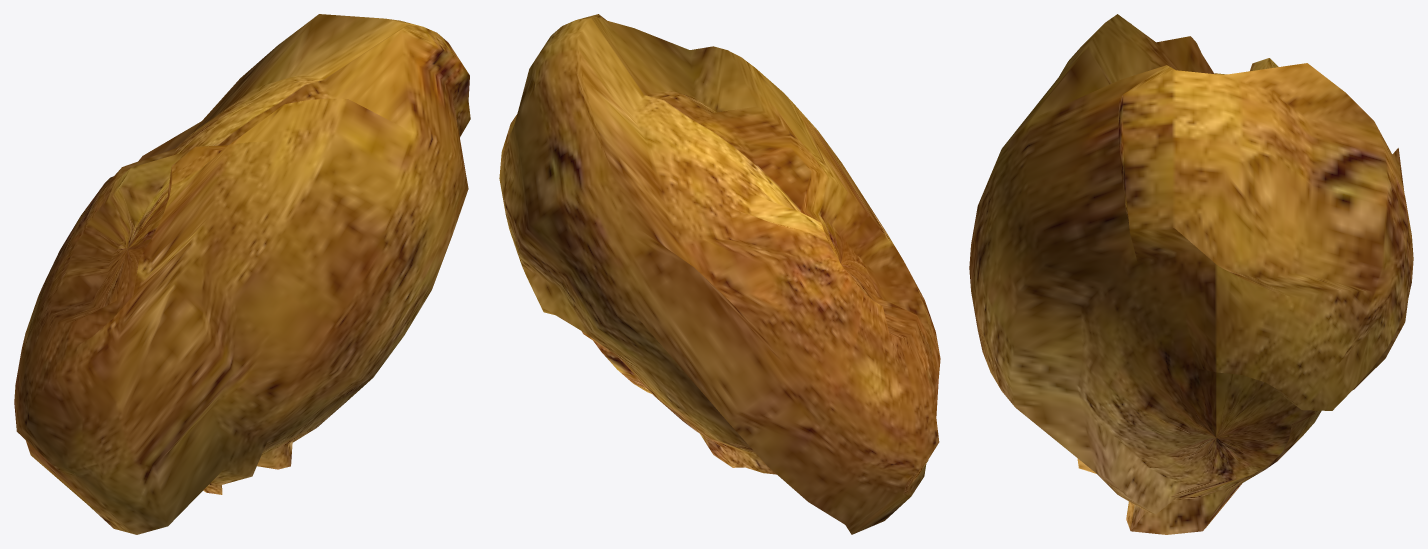
Rendered from asteroid.dae.
3 views of the same model, side by side, from view 1: azimuth 30°, elevation 25°; view 2: azimuth 150°, elevation 25°; view 3: azimuth 270°, elevation 25° (orthographic). The views are drawn at different scales.
Parts seen in each view (by area): view 1: asteroid; view 2: asteroid; view 3: asteroid.
Part boxes in pixels (x1,y1,x2,y2): asteroid: [14, 14, 470, 534]; asteroid: [499, 14, 940, 534]; asteroid: [969, 14, 1413, 534].
Size of the model in its own units: 1.74 by 1.67 by 1.13.
Materials: 1 (1 with a texture image).
